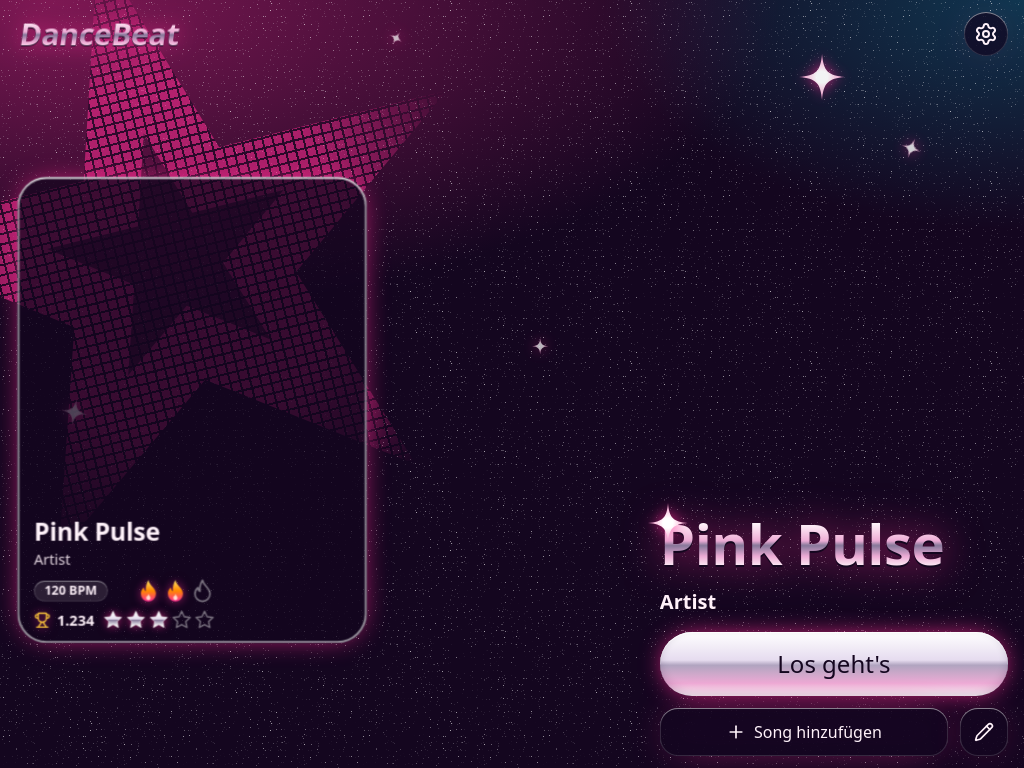
Test: Dance video in the edit dialog (8h-2b-2a) › says when the music itself is already a video
Click the button named "Song bearbeiten" at (984, 732), box left=960, top=708, right=1008, bottom=756
(page scrolled)
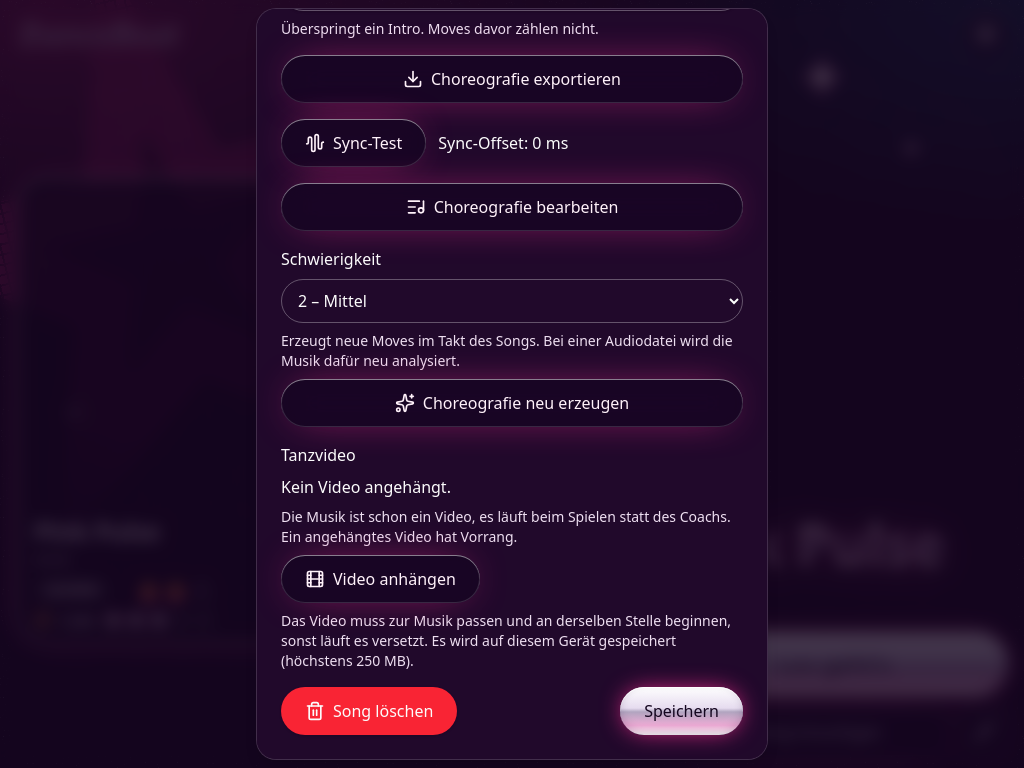
expect the text "Die Musik ist schon ein Video" is shown: met, box left=281, top=507, right=731, bottom=546
expect the button "Video anhängen" is enabled: met, box left=281, top=555, right=480, bottom=603
